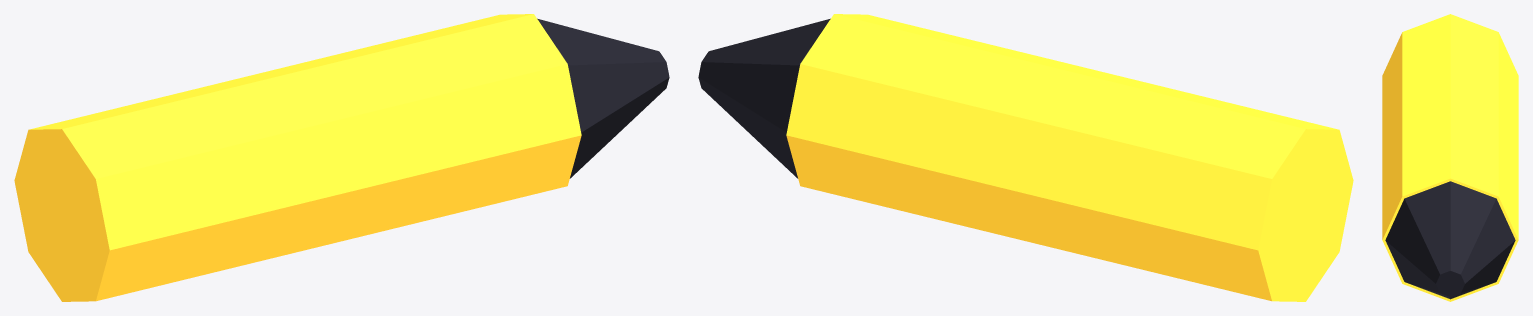
Rendered from shell.glb.
The picture shows the model from 3 angles, left to right: view 1: azimuth 30°, elevation 25°; view 2: azimuth 150°, elevation 25°; view 3: azimuth 270°, elevation 25°; orthographic projection. The views are drawn at different scales.
Visible parts, largest first — view 1: Shell; view 2: Shell; view 3: Shell.
Part boxes in pixels (x1,y1,x2,y2): Shell: (14, 14, 669, 301); Shell: (698, 14, 1353, 301); Shell: (1382, 14, 1518, 301).
Size of the model in its own units: 0.2025 by 0.056 by 0.056.
